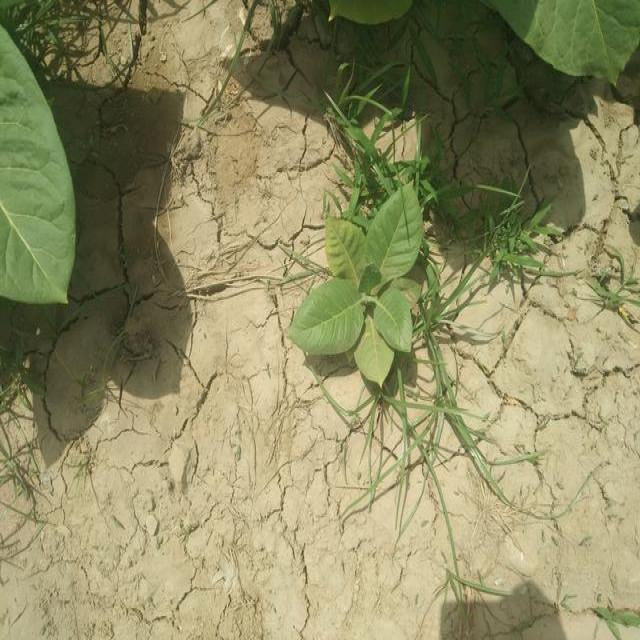crop: (294, 201, 433, 380), (0, 28, 69, 319), (477, 0, 640, 87)
